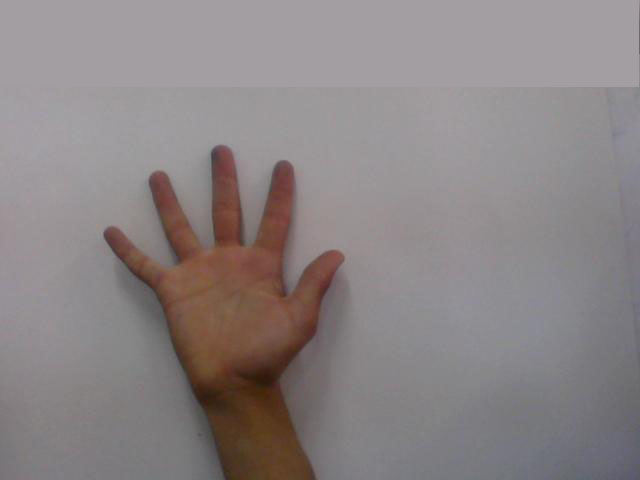hand: (88, 134, 352, 368)
